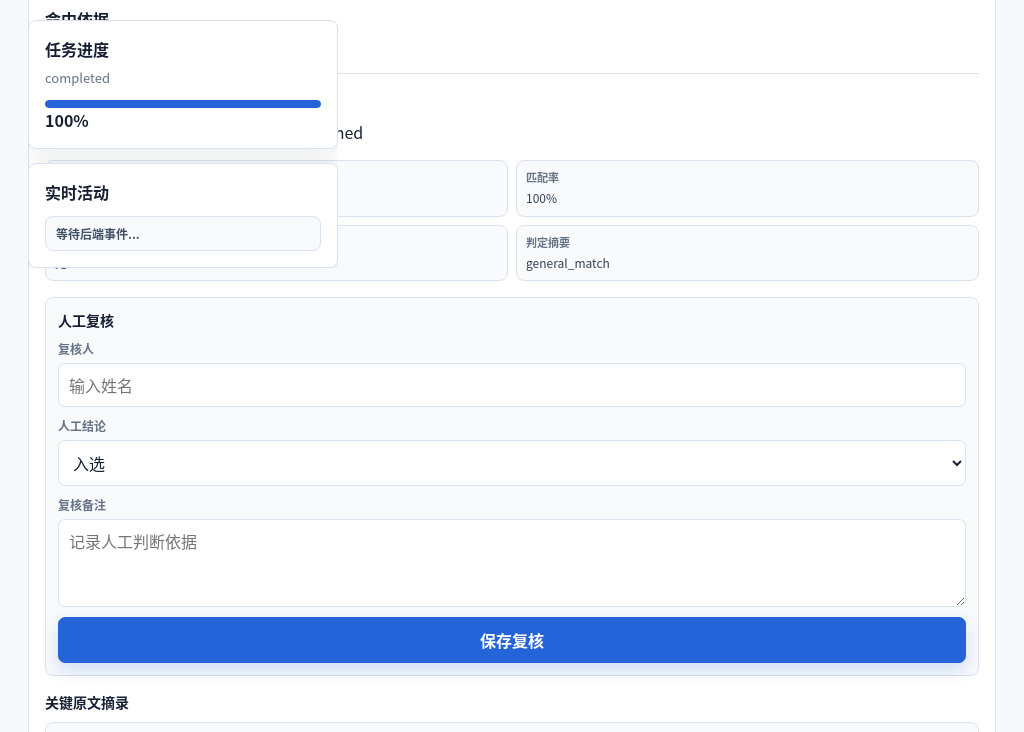
Test: TaskProgressPage › saves a manual review and updates the selected result
(page scrolled)
Type "  王五  " into the field labelled "复核人" at x=512, y=385, box [58, 363, 966, 407]
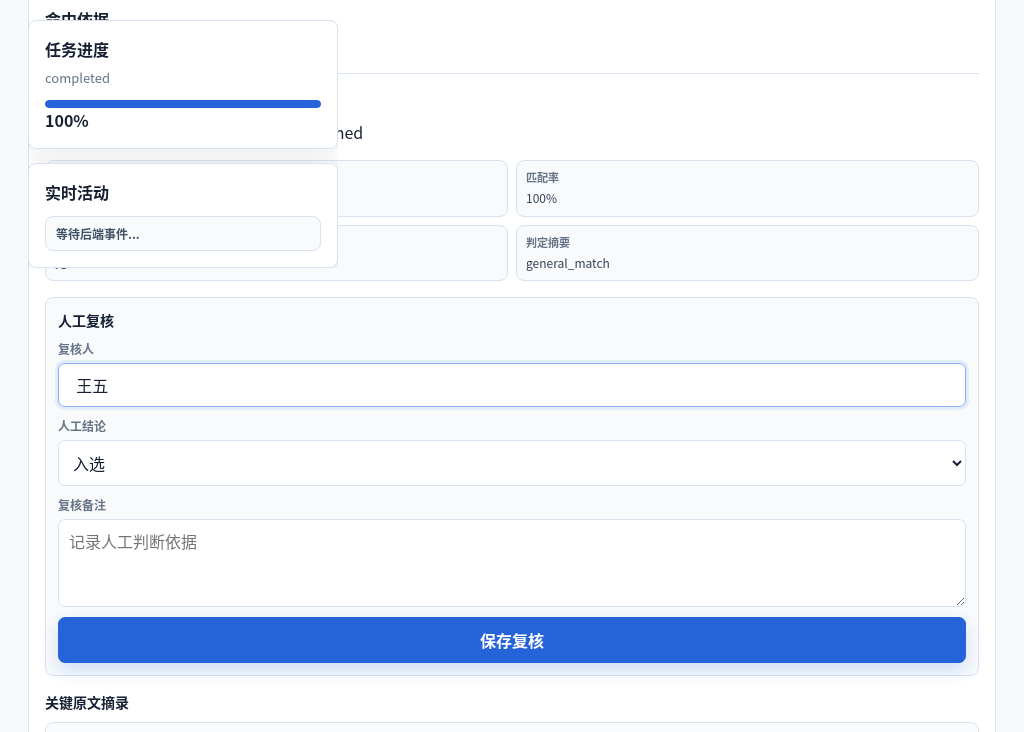
Select "不符合" in the dropdown labelled "人工结论" at x=512, y=463, box [58, 440, 966, 486]
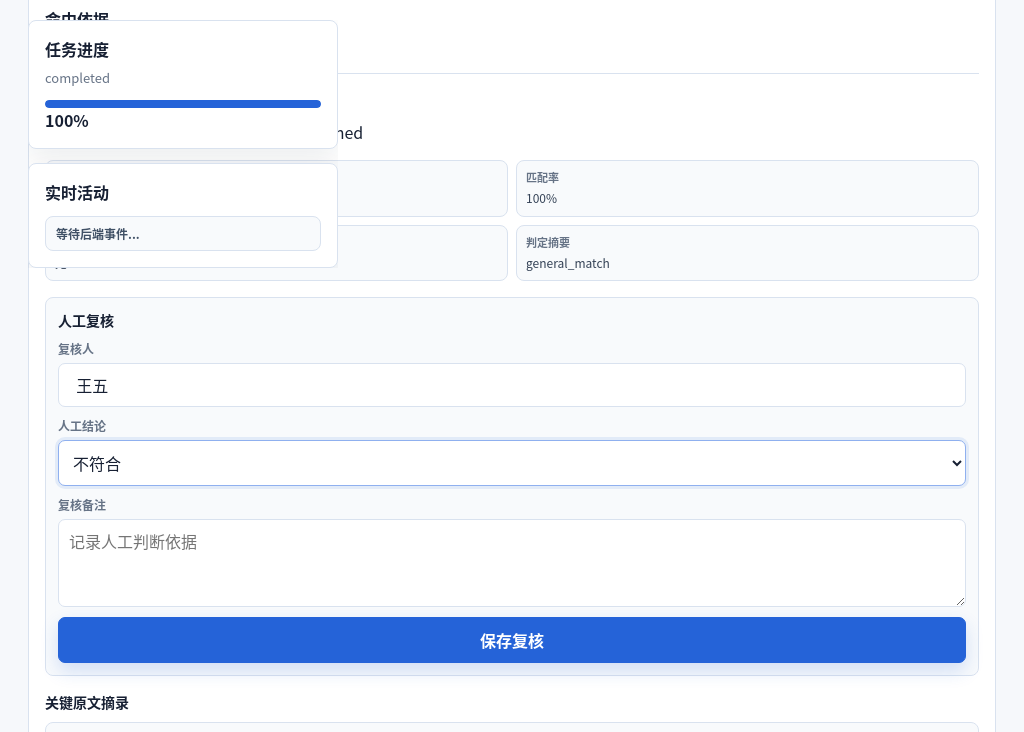
Type "附件金额不匹配" into the text box labelled "复核备注" at x=512, y=563, box [58, 519, 966, 607]
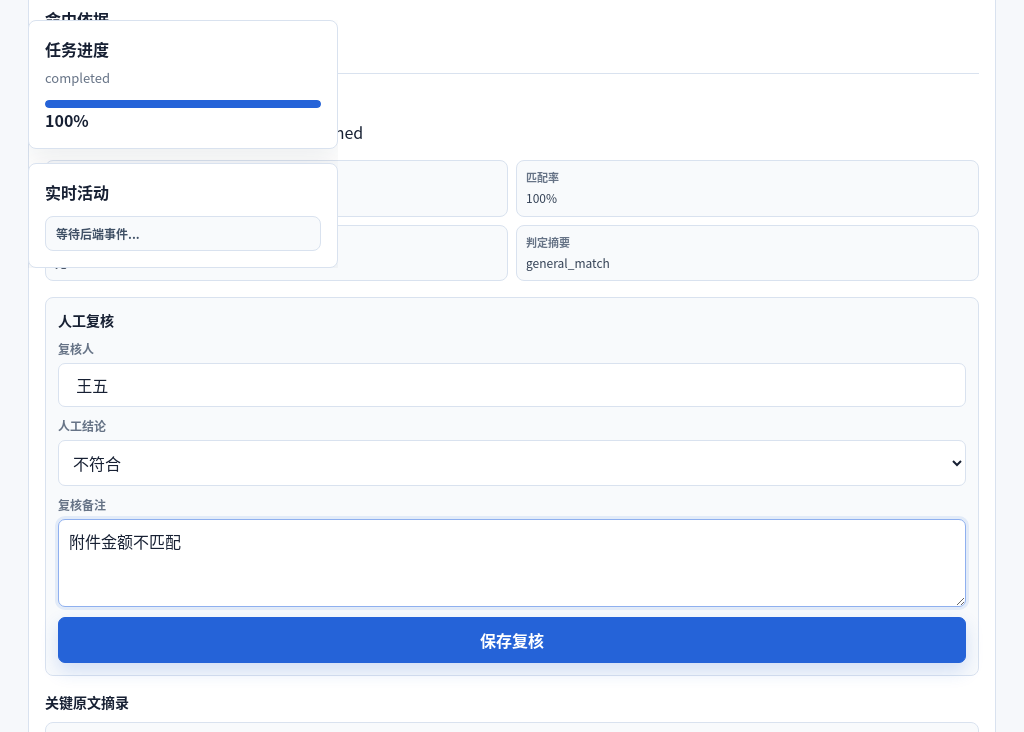
Click the button "保存复核" at x=512, y=640, box [58, 617, 966, 663]
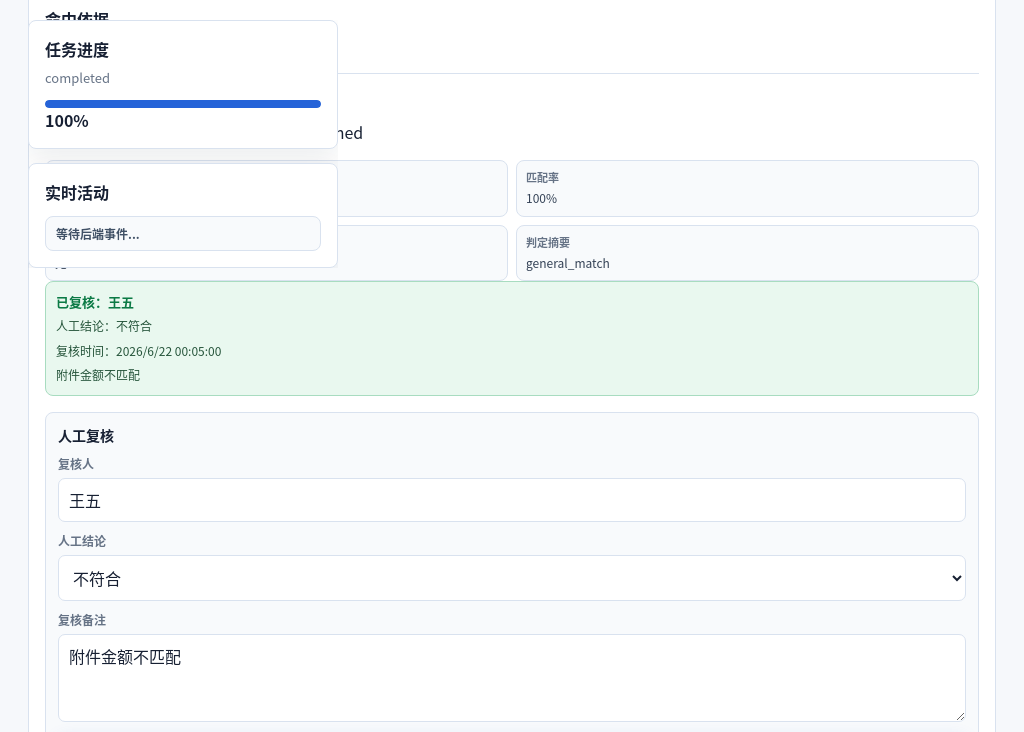
Expected: the text "已复核：王五" is shown, [56, 292, 134, 311]
Expected: the text "人工结论：不符合" is shown, [56, 317, 152, 334]
